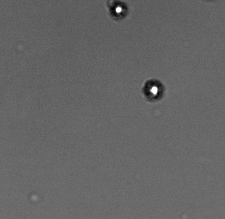Living Cell: (143, 79, 164, 100), (109, 2, 128, 18)
